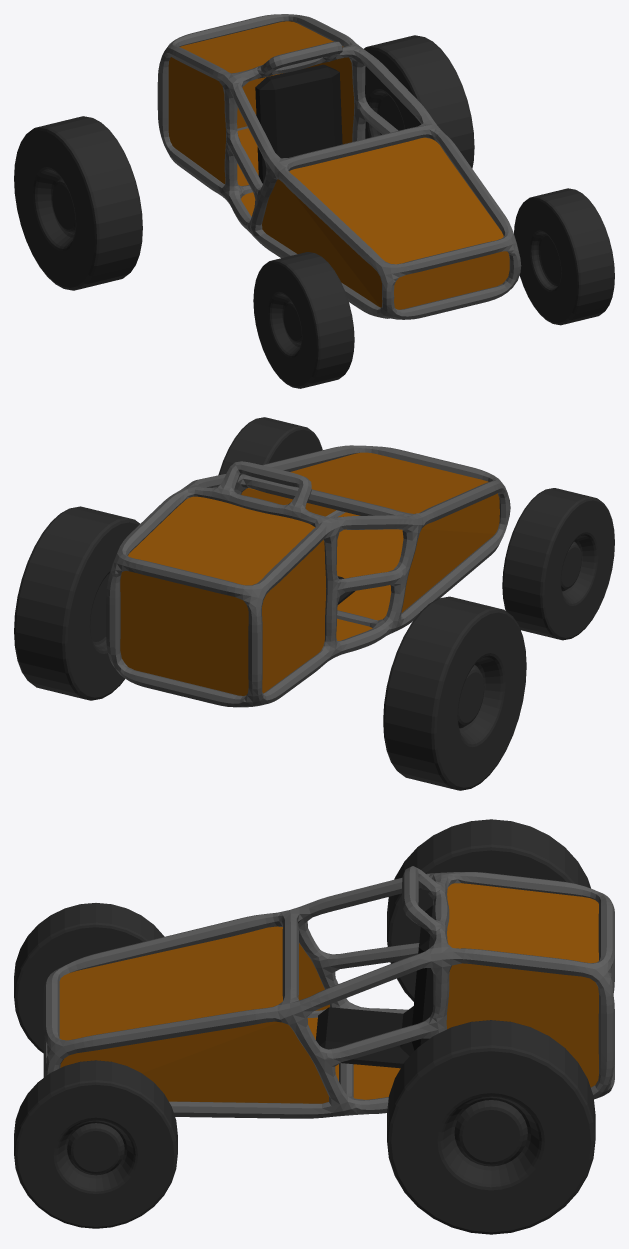
Rendered from BasicBuggy.dae.
3 renders of one model, top to bottom at view 1: azimuth 30°, elevation 25°; view 2: azimuth 150°, elevation 25°; view 3: azimuth 270°, elevation 25°, orthographic. The views are drawn at different scales.
Visible parts, largest first — view 1: Chassis, Chassis_RollCage, Wheel_Rear.LR, Wheel_Front.LR, Seat; view 2: Chassis, Wheel_Rear.LR, Chassis_RollCage, Wheel_Front.LR; view 3: Chassis, Wheel_Rear.LR, Chassis_RollCage, Wheel_Front.LR, Seat.
Boxes of the visible parts, x1,y1,x2,y2 form: Chassis: (168,21,509,309); Chassis_RollCage: (157,14,521,319); Wheel_Rear.LR: (14,35,474,290); Wheel_Front.LR: (253,188,614,388); Seat: (255,64,342,183); Chassis: (120,452,499,695); Wheel_Rear.LR: (14,506,526,790); Chassis_RollCage: (106,445,510,707); Wheel_Front.LR: (218,417,614,640); Chassis: (59,883,598,1103); Wheel_Rear.LR: (387,819,595,1234); Chassis_RollCage: (43,866,614,1118); Wheel_Front.LR: (14,903,177,1228); Seat: (316,905,434,1068).
Size of the model in its own units: 4.31 by 4.77 by 2.25.
